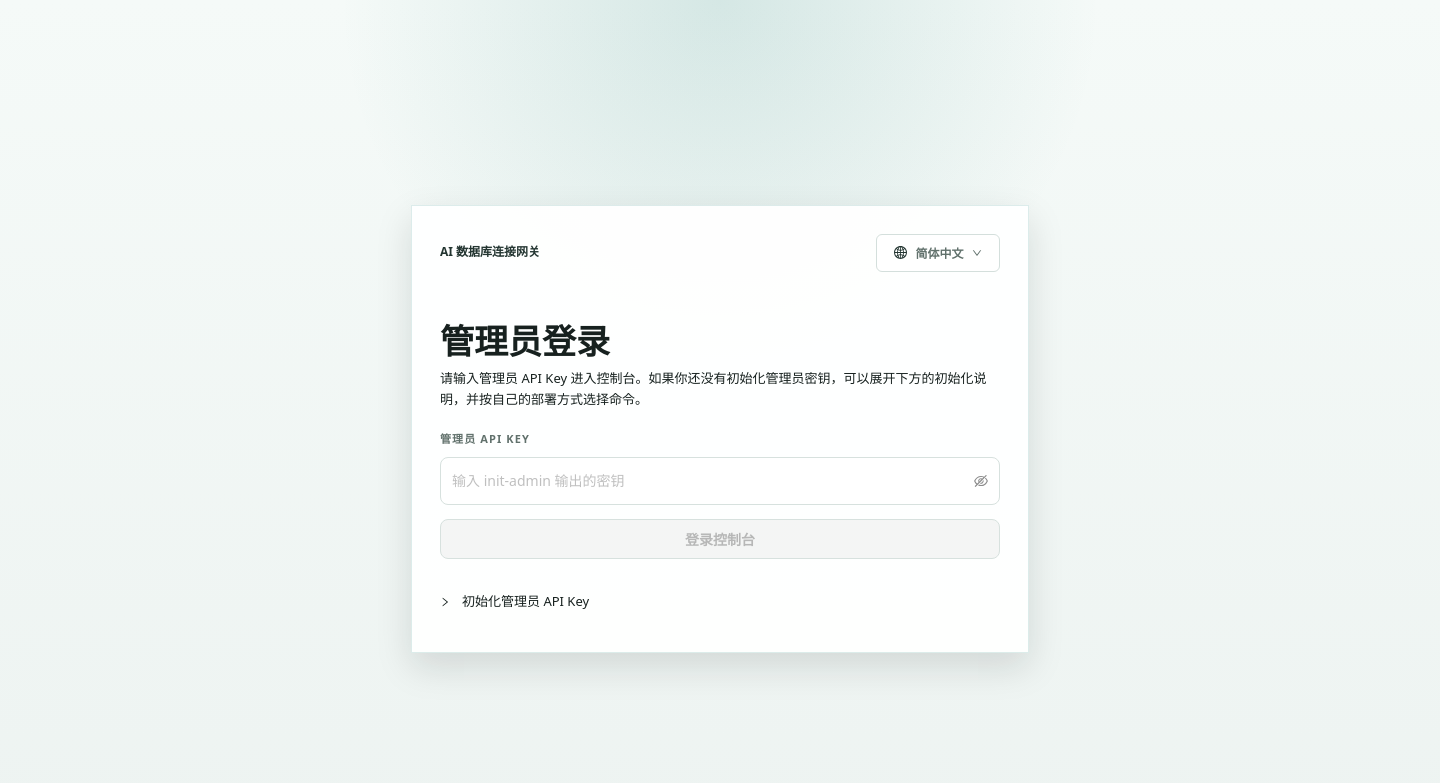
Test case: Roles page › localizes datasource delete confirmation buttons in Simplified Chinese
Step 1. Type "adg_admin" into the password field with placeholder "输入 init-admin 输出的密钥" → (711, 482), box x1=452 y1=466 x2=970 y2=496
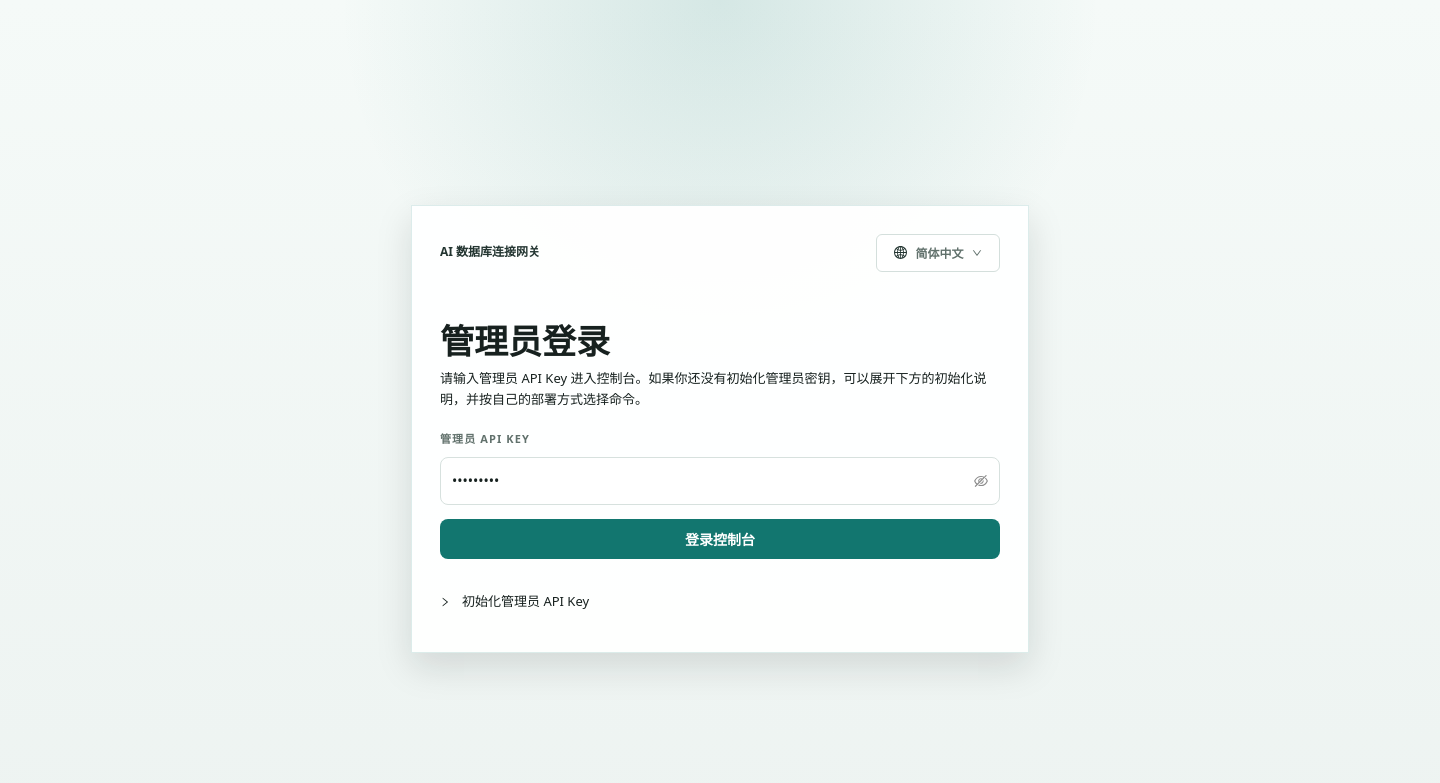
Step 2. Click the button "登录控制台" → (720, 540), box x1=440 y1=520 x2=1000 y2=560
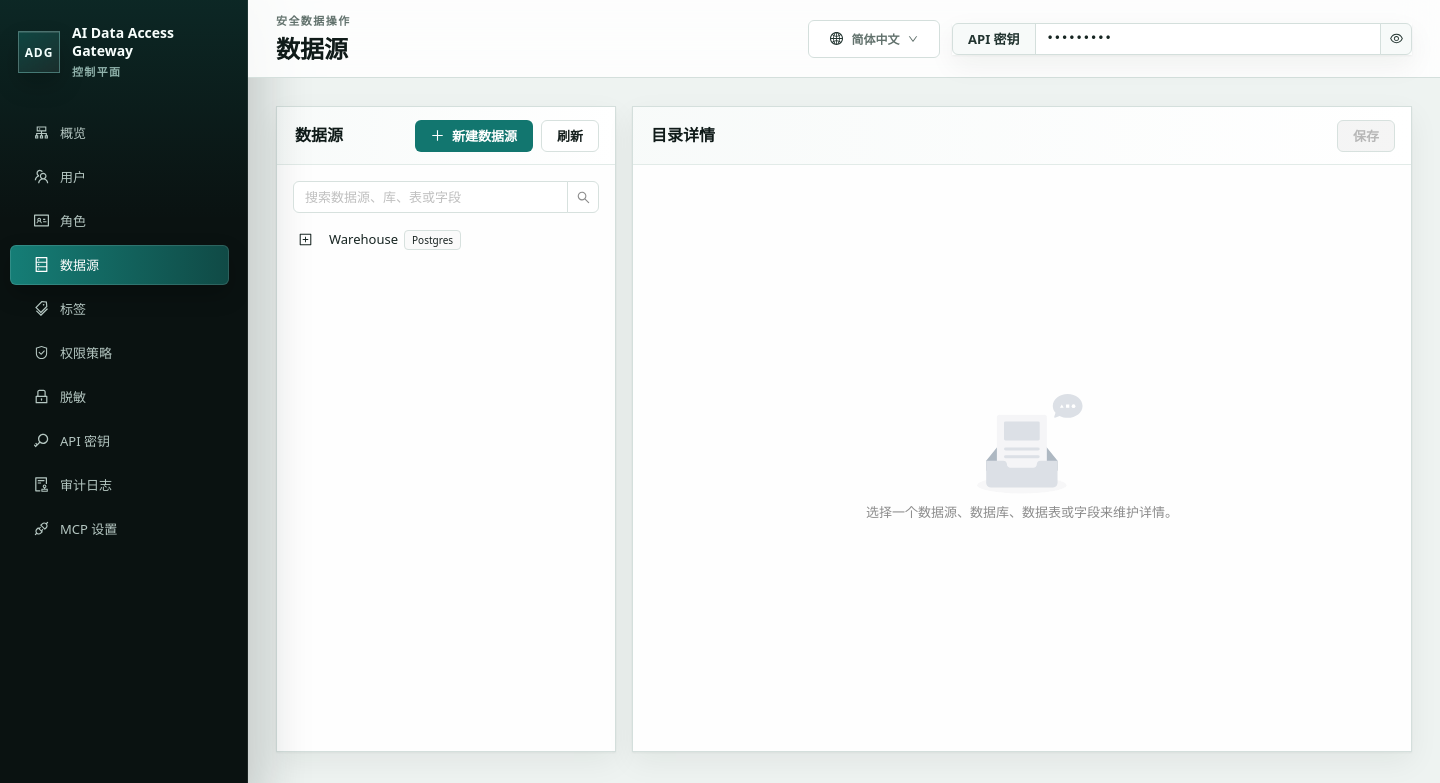
Step 3. Click the text "Warehouse" → (364, 239), box x1=329 y1=230 x2=398 y2=248
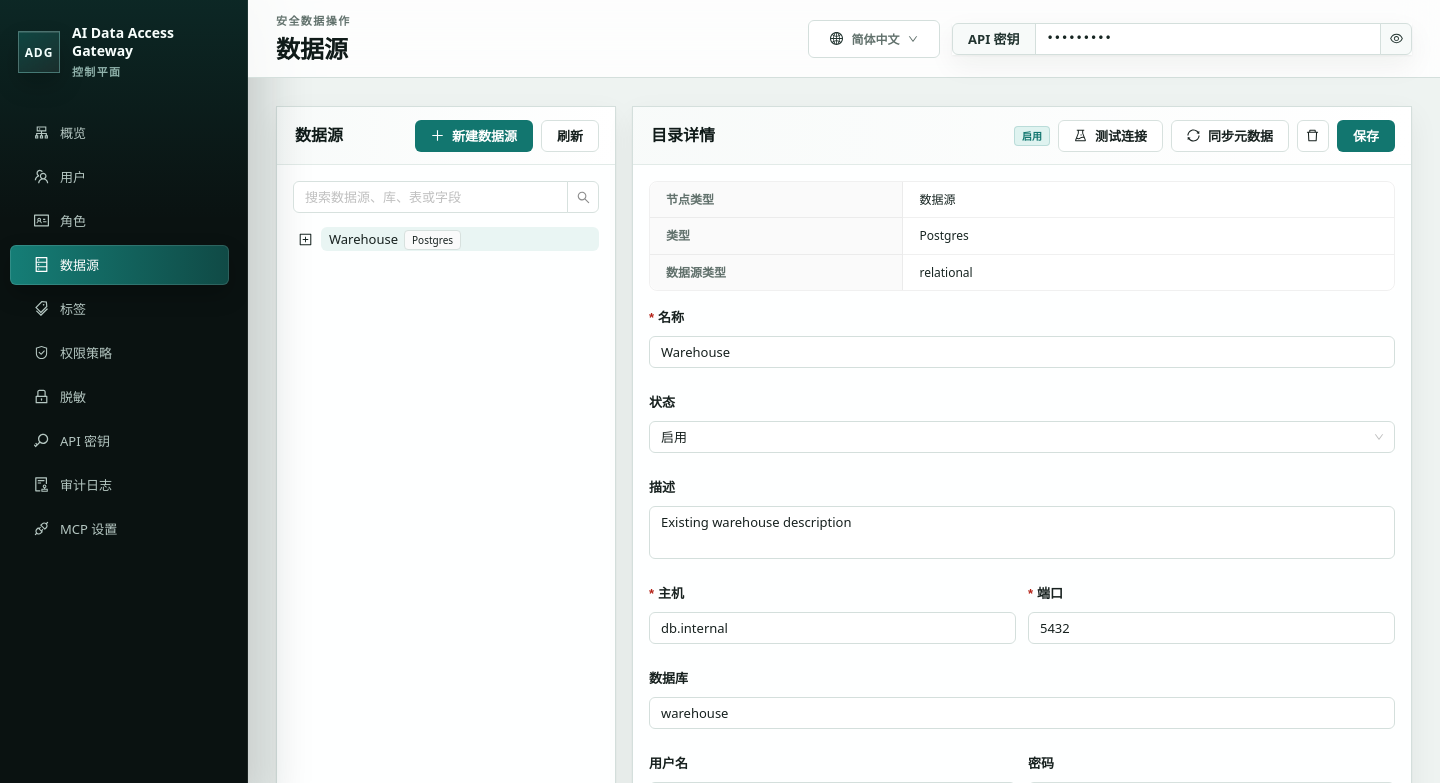
Expected: the button named "delete" in the row of "目录详情" is shown
Step 4. Click the button named "delete" in the row of "目录详情" → (1313, 136), box x1=1297 y1=120 x2=1329 y2=152
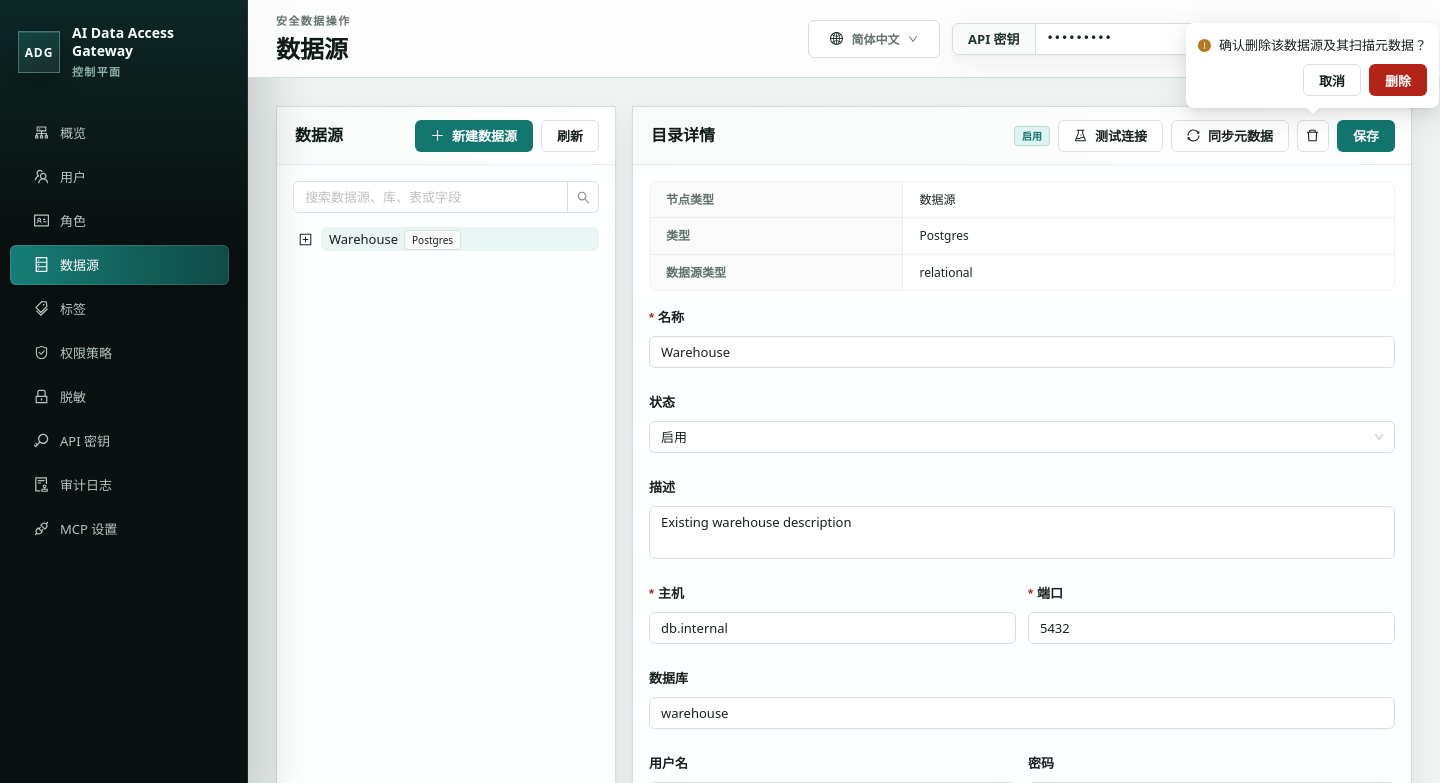
Expected: the text "确认删除该数据源及其扫描元数据？" is shown, x1=1219 y1=35 x2=1427 y2=56
Expected: the button "取消" is shown, x1=1303 y1=64 x2=1361 y2=96
Expected: the button "删除" is shown, x1=1369 y1=64 x2=1427 y2=96
